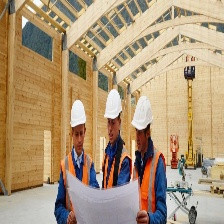helmet: (131, 90, 154, 133), (104, 88, 123, 126), (69, 101, 87, 129)
person: (56, 101, 99, 224), (133, 90, 168, 224), (99, 88, 133, 181)
vest: (60, 150, 95, 216), (134, 147, 168, 214), (103, 138, 132, 192)
